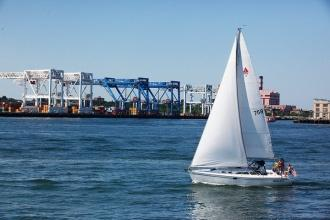fanchuan: (178, 26, 302, 191)
